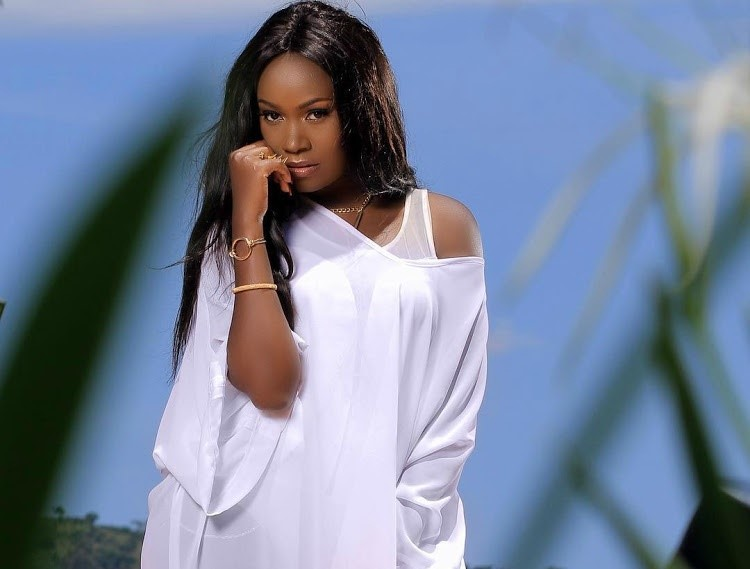face_no_mask: (249, 2, 380, 192)
